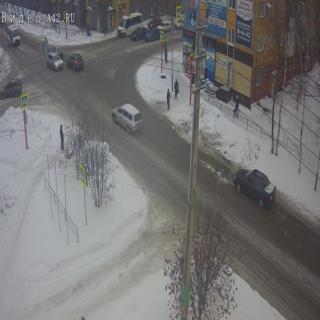large-vehicle: (116, 12, 142, 38), (5, 20, 22, 48)
small-vehicle: (232, 157, 277, 210), (110, 100, 140, 134), (0, 77, 24, 97), (44, 46, 60, 72), (144, 23, 162, 44), (66, 50, 82, 70), (155, 17, 172, 33), (50, 41, 63, 60), (131, 28, 147, 42), (147, 14, 163, 28), (174, 16, 184, 28)
